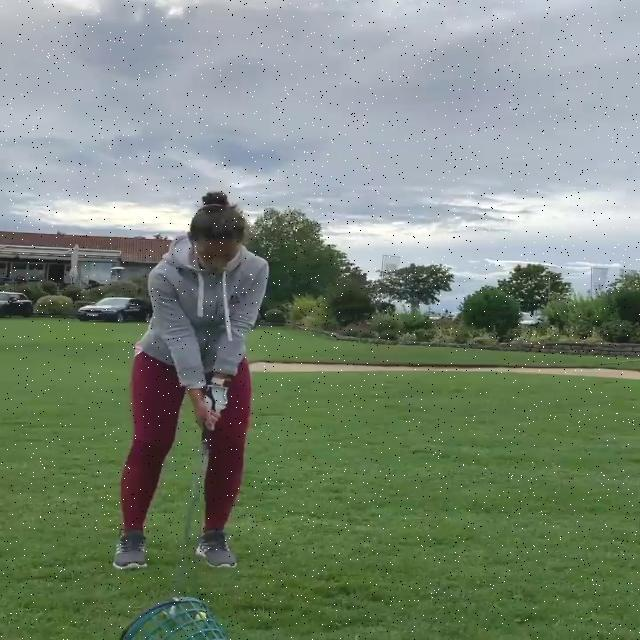golf ball: (195, 612, 206, 620)
golf club-handle: (162, 426, 210, 621)
golf club-head: (162, 605, 176, 621)
